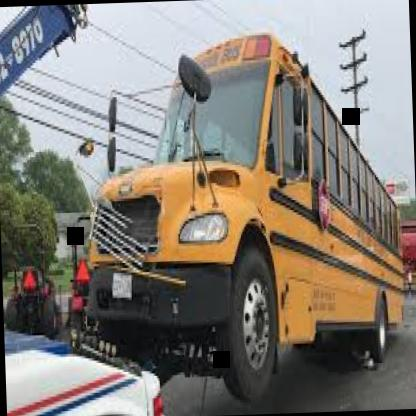accident: (31, 22, 339, 416)
